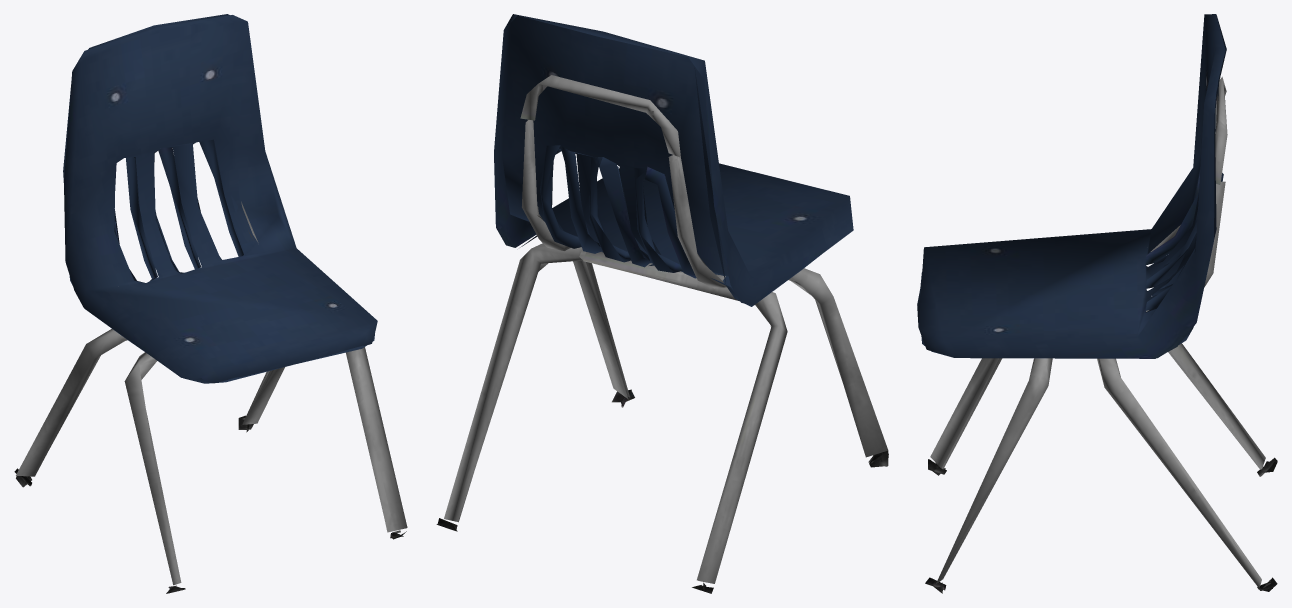
The model's file is prop_school_chair.glb.
The picture shows the model from 3 angles, left to right: view 1: azimuth 30°, elevation 25°; view 2: azimuth 150°, elevation 25°; view 3: azimuth 270°, elevation 25°; orthographic projection. The views are drawn at different scales.
Parts seen in each view (by area): view 1: prop_school_chair; view 2: prop_school_chair; view 3: prop_school_chair.
Boxes of the visible parts, x1,y1,x2,y2 form: prop_school_chair: (14, 14, 407, 593); prop_school_chair: (436, 14, 888, 593); prop_school_chair: (917, 14, 1277, 593).
Bounding box in the file's own units: 0.4817 × 0.8509 × 0.5729.
Materials: 1 (1 with a texture image).
